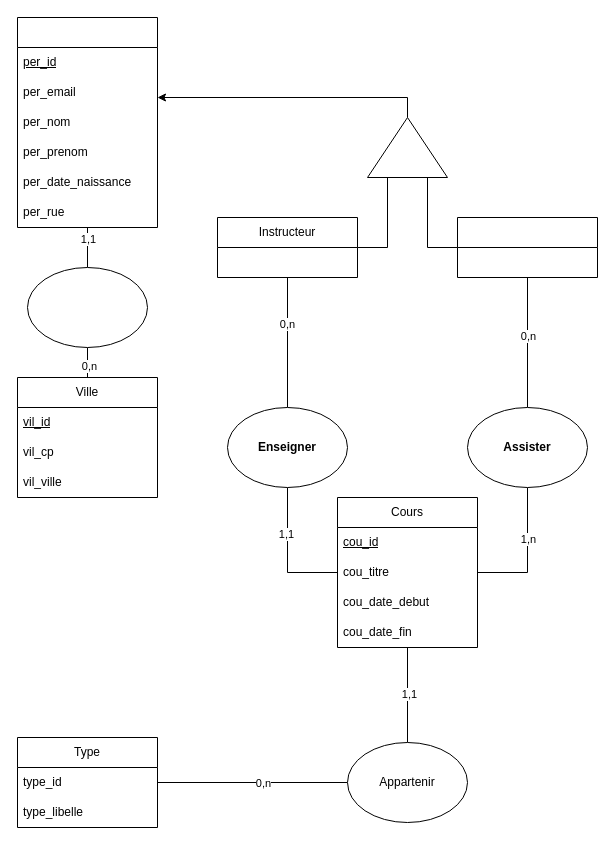
This 615x845 diagram has some shape labels left out. Here are the shapes that lost their labels. From the top down, the box of each, then its label:
(16, 16, 158, 228): Personne
(456, 216, 598, 278): Membre
(26, 266, 148, 348): Habiter
